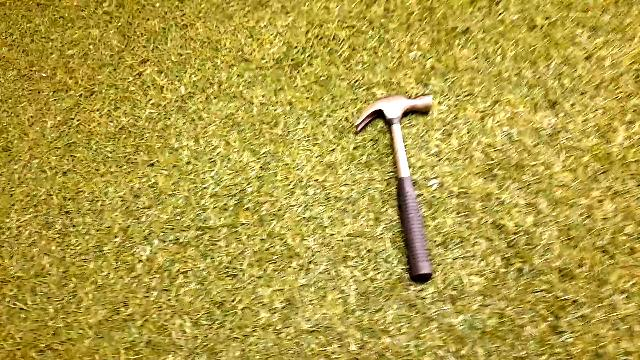hammer: (346, 87, 446, 287)
